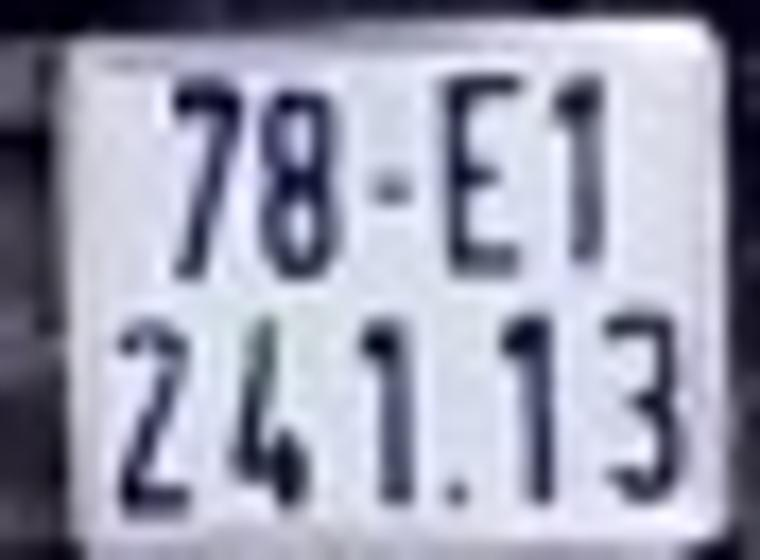-: (361, 169, 414, 219)
.: (448, 478, 480, 509)
1: (551, 75, 623, 269), (352, 327, 428, 510), (502, 321, 569, 506)
2: (121, 312, 198, 538)
3: (588, 311, 685, 514)
4: (228, 315, 322, 519)
7: (161, 81, 239, 278)
8: (258, 91, 344, 284)
E: (427, 67, 532, 286)
